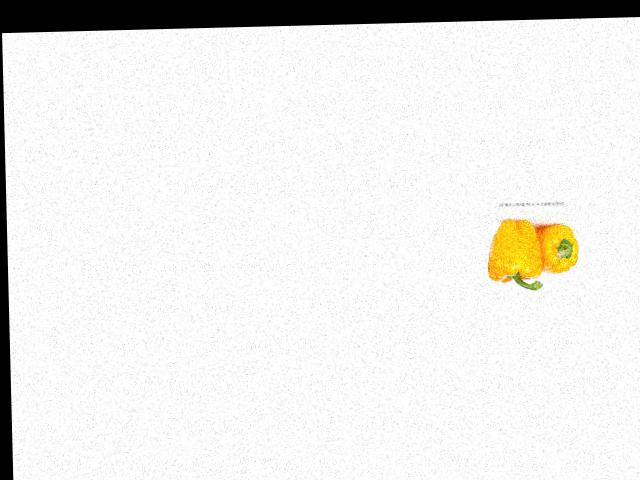bell_pepper: (533, 221, 579, 277)
